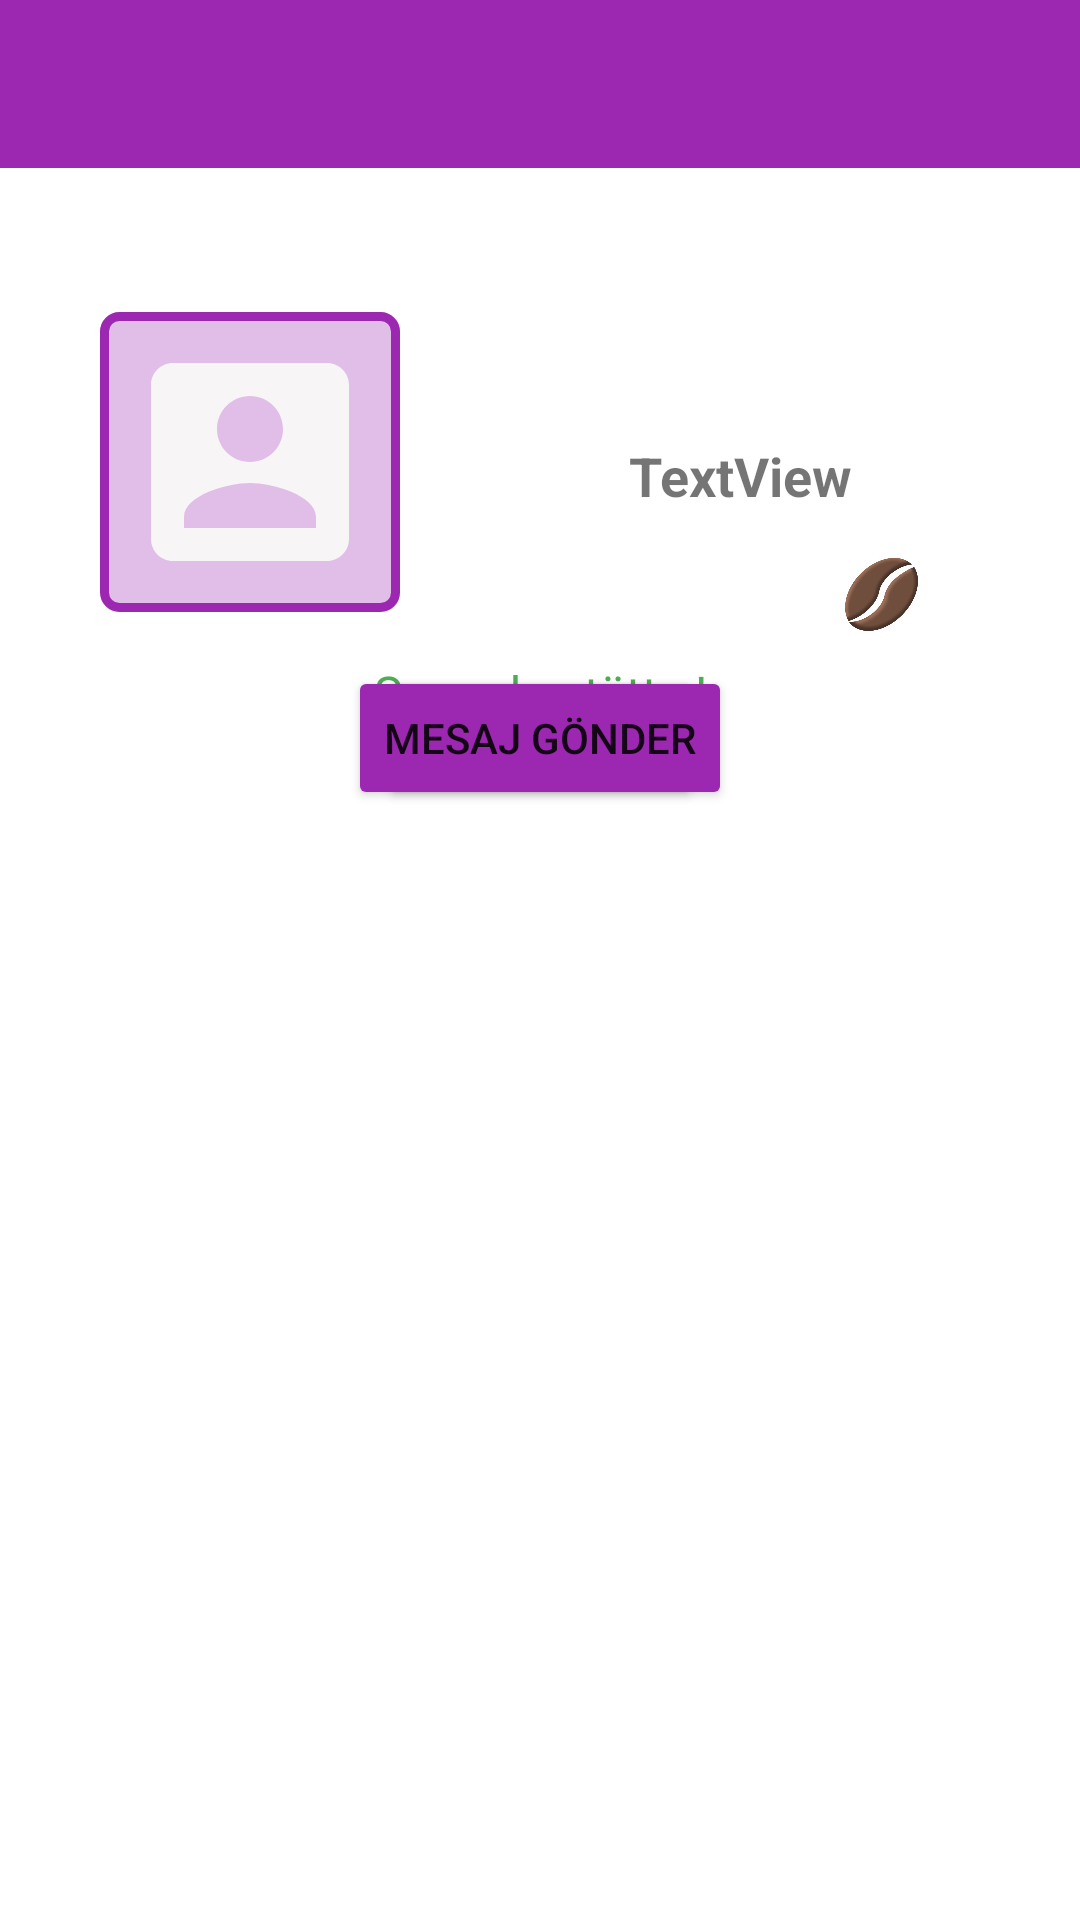

Icons on this 1080w x 1920h Android screen, each with its box as (x1, y1, x2, y2):
accaount bottom: (100, 312, 400, 612)
coffecore: (845, 558, 918, 631)
